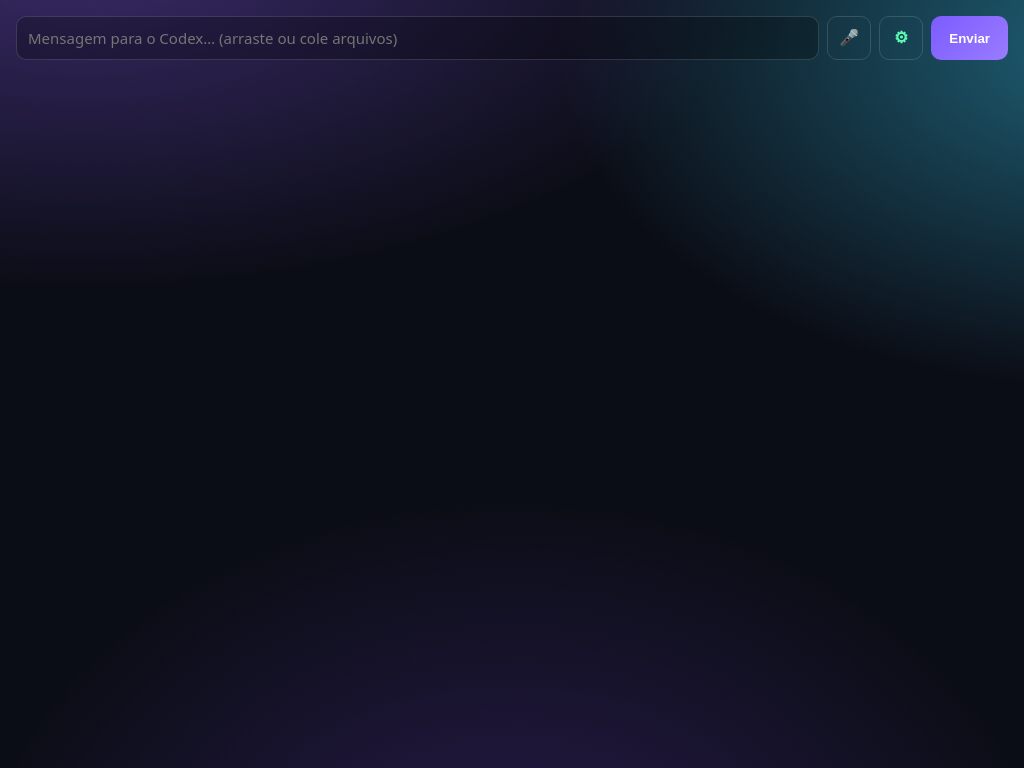
it: @! como referência local › permite navegar por teclado, voltar à raiz e cancelar sem alterar o rascunho
Type "@!" into the text box at (418, 38), box left=16, top=16, right=819, bottom=60
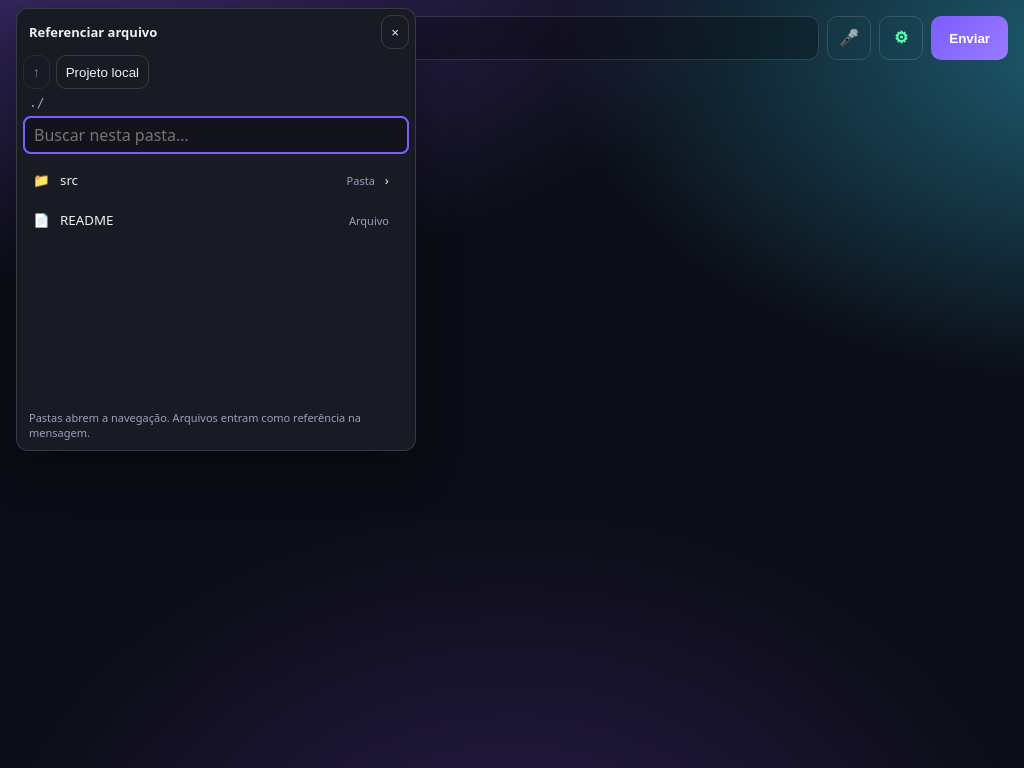
Check: the button "📁 src Pasta ›" is shown, box left=23, top=160, right=399, bottom=200
Press ArrowDown in the field labelled "Buscar nesta pasta…", box left=23, top=116, right=409, bottom=154
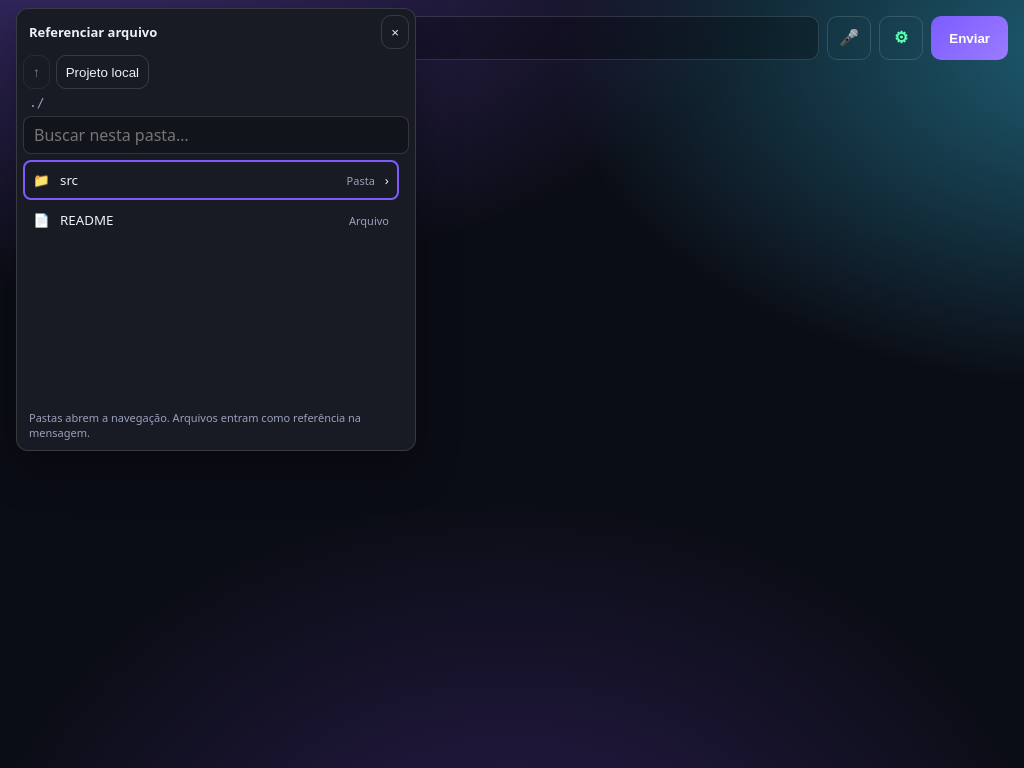
Click the button "📁 src Pasta ›" at (42, 180), box left=23, top=160, right=399, bottom=200
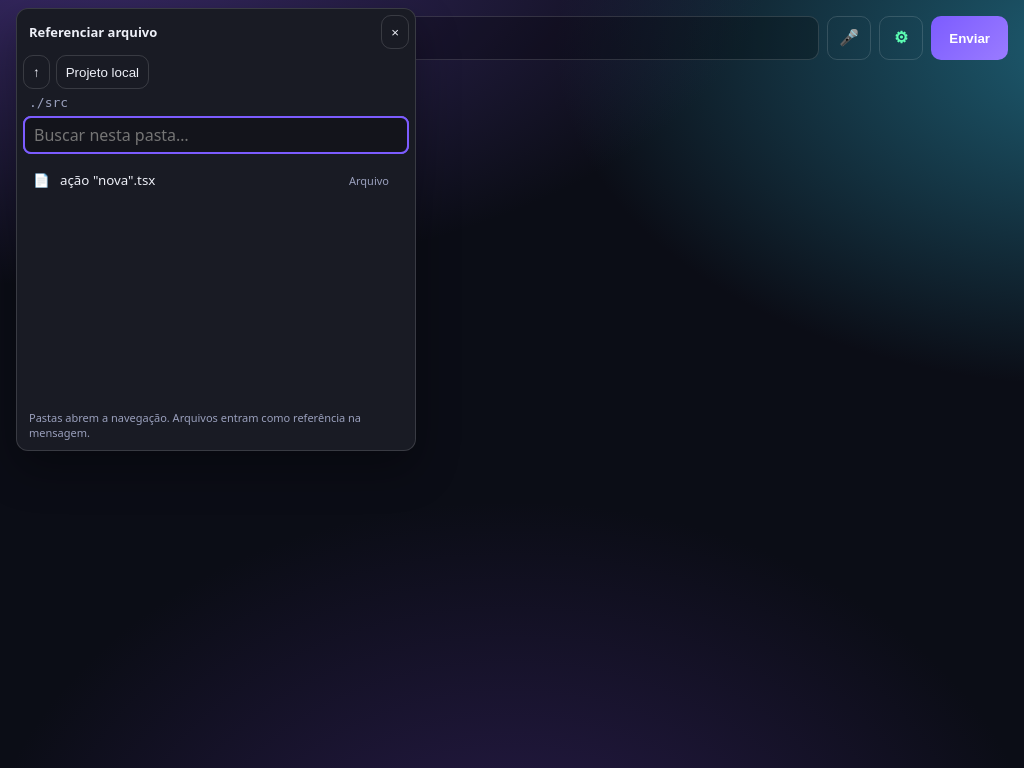
Check: the button "📄 ação \"nova\".tsx Arquivo" is shown, box left=23, top=160, right=399, bottom=200
Click the button named "Voltar à pasta anterior" at (36, 72), box left=23, top=55, right=50, bottom=89
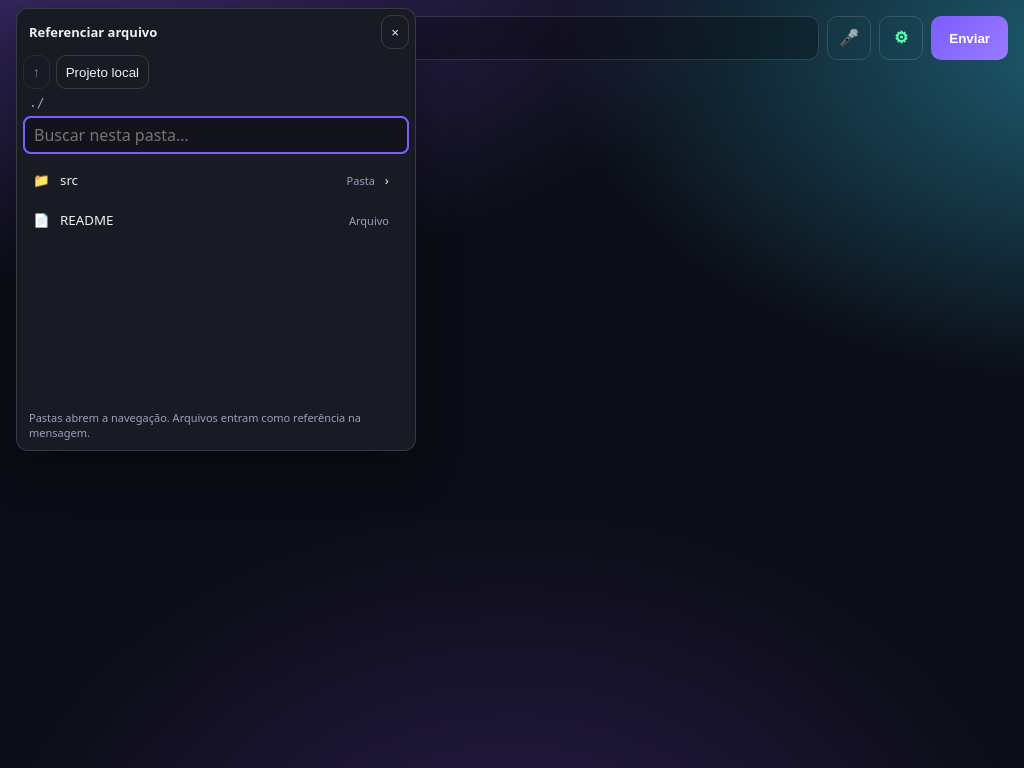
Check: the button "📄 README Arquivo" is shown, box left=23, top=200, right=399, bottom=240
Press Escape in the field labelled "Buscar nesta pasta…", box left=23, top=116, right=409, bottom=154
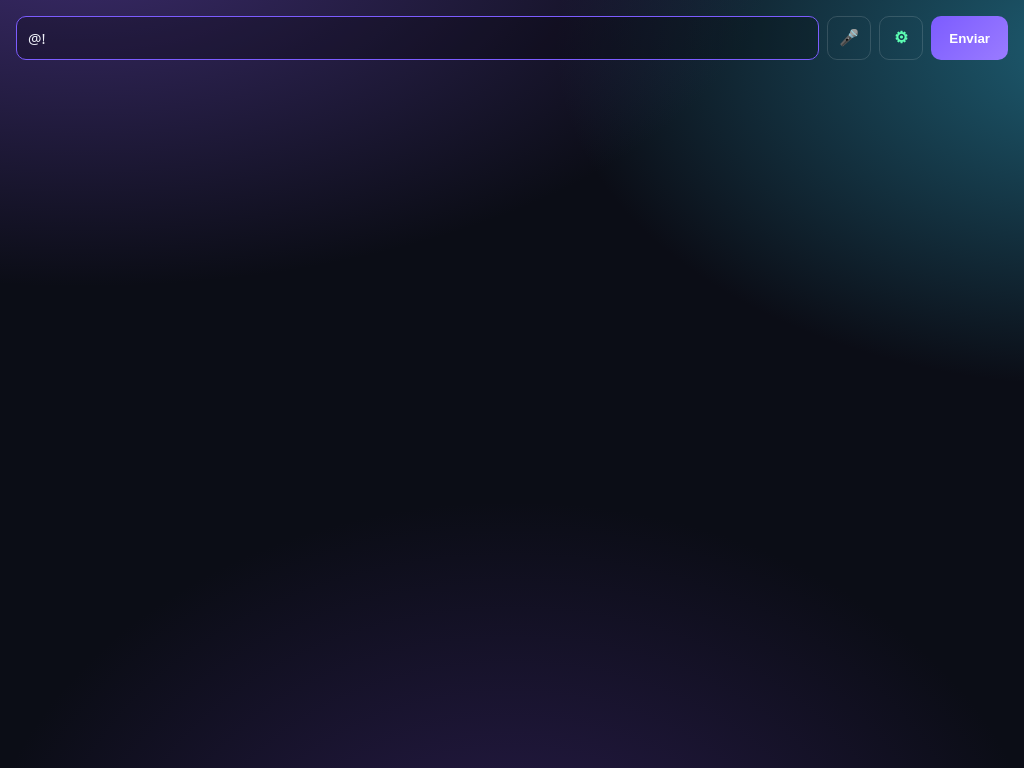
Check: the dialog is gone
